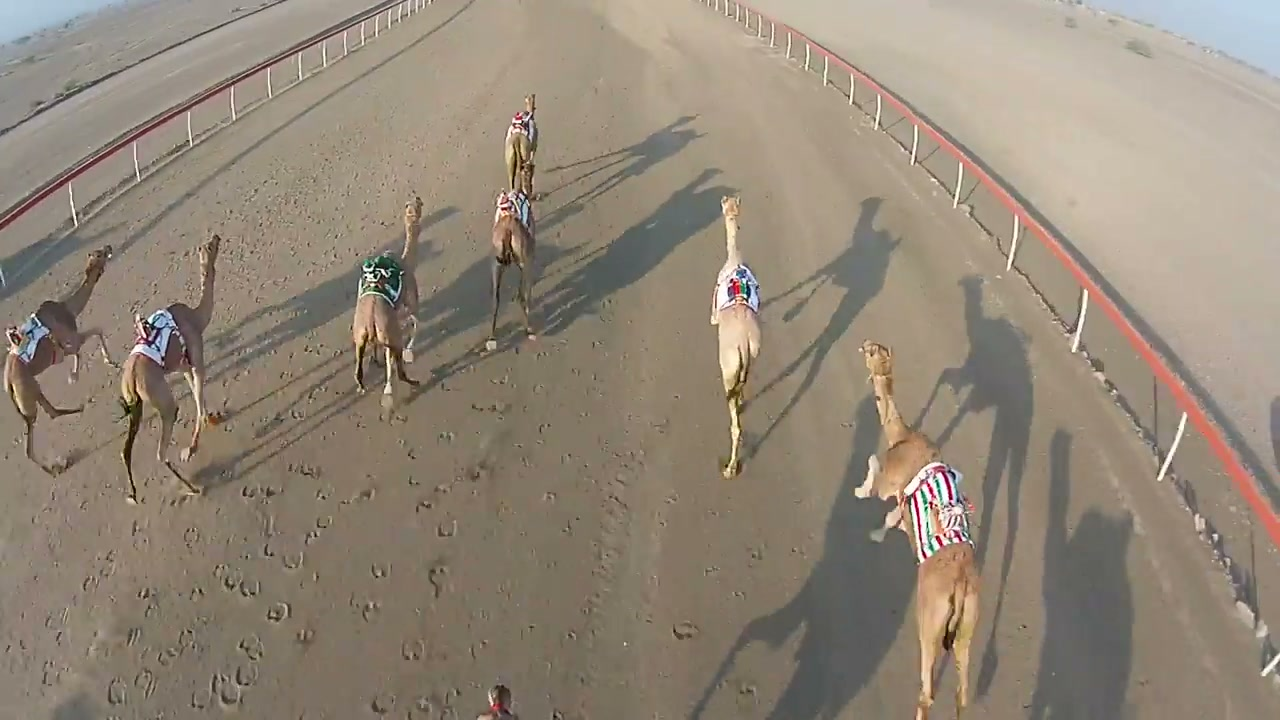animal_foot_print: (93, 387, 380, 715), (346, 409, 480, 719), (669, 506, 842, 698), (9, 500, 137, 700)
